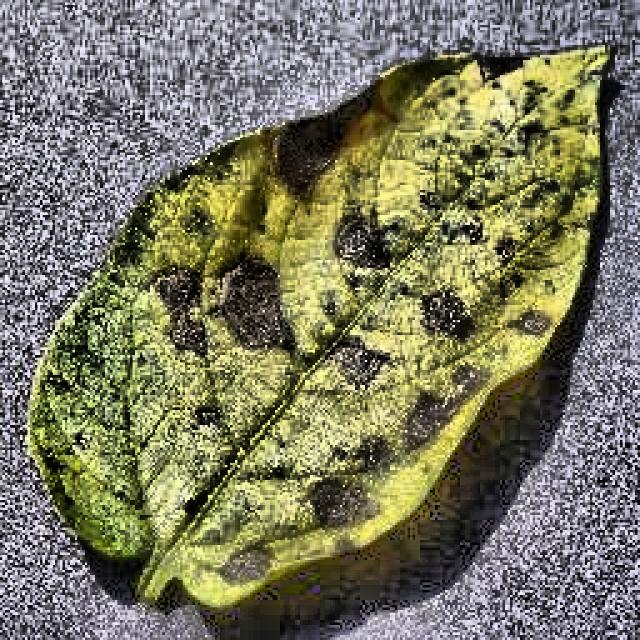Potato_leaf_early_blight: (30, 52, 610, 605)
